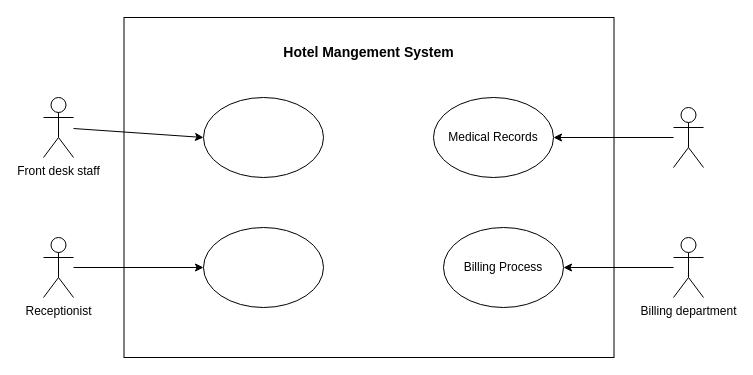
Image size: 753x375. Some labels were removed from this diagram. Each missing label, with the centre of its shape:
"Medical Staff" goes at point (688, 137).
"Patient Admission" goes at point (263, 137).
"Schedule Appointment" goes at point (263, 267).
